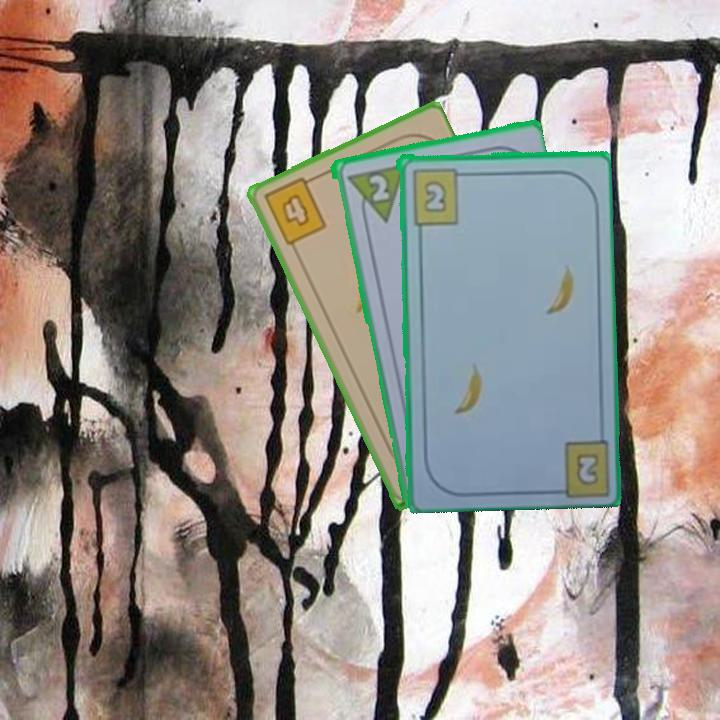2b: (408, 165, 470, 227), (572, 449, 602, 489)
2p: (342, 160, 406, 228)
4b: (259, 172, 330, 249)
